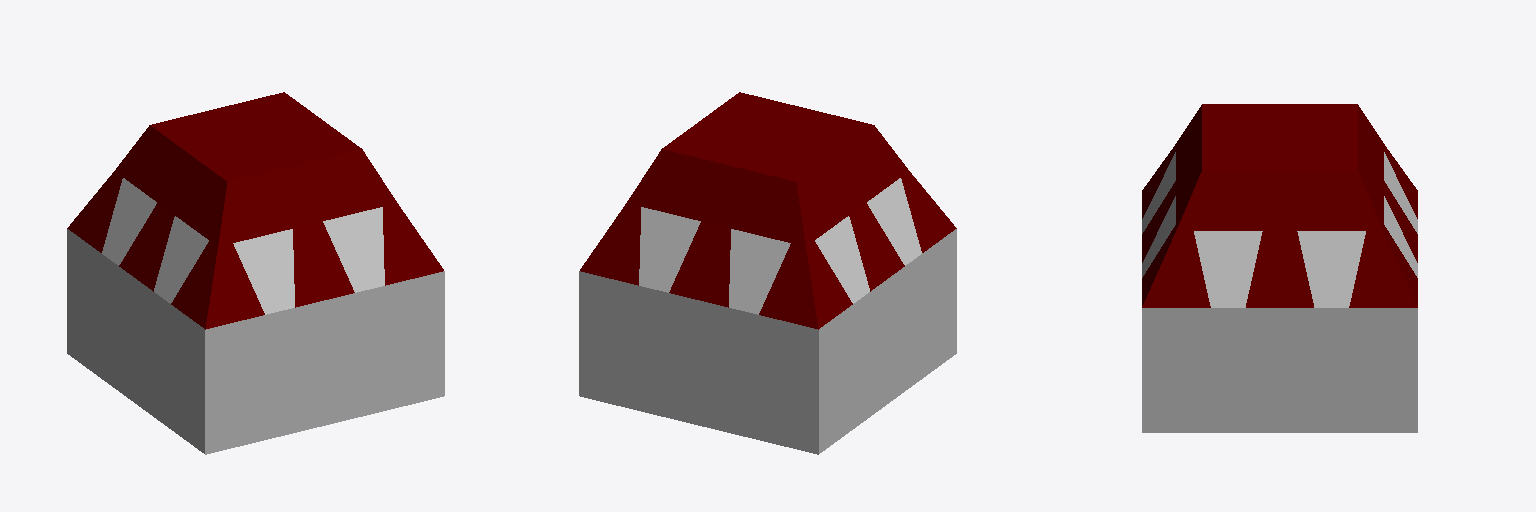
The model's file is house.obj.
3 renders of one model, left to right at view 1: azimuth 30°, elevation 25°; view 2: azimuth 150°, elevation 25°; view 3: azimuth 270°, elevation 25°, orthographic.
Visible parts, largest first — view 1: Cube; view 2: Cube; view 3: Cube.
Part boxes in pixels (left/top/right/bottom): Cube: left=67, top=92, right=444, bottom=454; Cube: left=579, top=92, right=956, bottom=454; Cube: left=1142, top=104, right=1417, bottom=432.
Bounding box in the file's own units: 2 × 1.9 × 2.